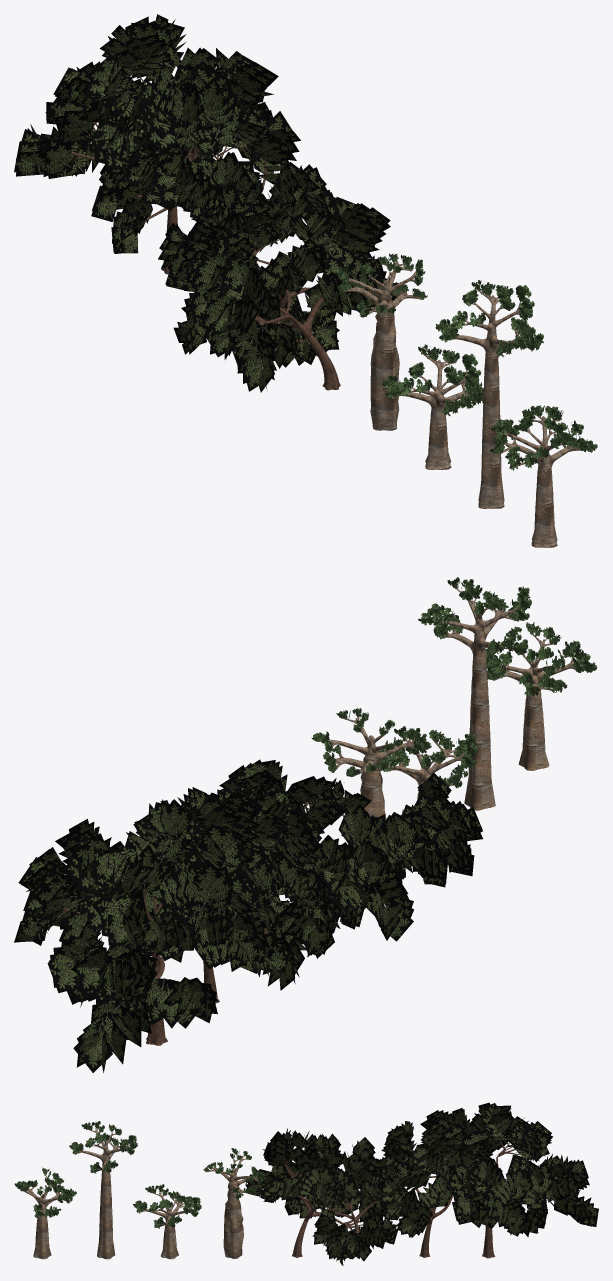
File: AfricanPlainTrees.fbx
3 views of the same model, one above another, from view 1: azimuth 30°, elevation 25°; view 2: azimuth 150°, elevation 25°; view 3: azimuth 270°, elevation 25° (orthographic). The views are drawn at different scales.
Parts seen in each view (by area): view 1: U3DMesh.004, U3DMesh.007, U3DMesh.005, U3DMesh.006, U3DMesh.001, U3DMesh.003, U3DMesh, U3DMesh.002; view 2: U3DMesh.004, U3DMesh.007, U3DMesh.005, U3DMesh.001, U3DMesh, U3DMesh.003, U3DMesh.006, U3DMesh.002; view 3: U3DMesh.004, U3DMesh.007, U3DMesh.005, U3DMesh.006, U3DMesh.001, U3DMesh.003, U3DMesh.002, U3DMesh.
Part boxes in pixels (x1,y1,x2,y2): U3DMesh.004: (14,14,300,274); U3DMesh.007: (158,197,390,392); U3DMesh.005: (91,94,334,253); U3DMesh.006: (191,169,398,368); U3DMesh.001: (435,280,543,508); U3DMesh.003: (335,253,427,430); U3DMesh: (490,405,597,547); U3DMesh.002: (382,344,483,469); U3DMesh.004: (14,787,307,1072); U3DMesh.007: (219,759,482,990); U3DMesh.005: (126,809,322,1003); U3DMesh.001: (418,577,531,810); U3DMesh: (486,622,597,770); U3DMesh.003: (311,708,431,820); U3DMesh.006: (254,785,375,933); U3DMesh.002: (379,726,478,800); U3DMesh.004: (386,1102,598,1258); U3DMesh.007: (245,1128,397,1265); U3DMesh.005: (365,1121,498,1257); U3DMesh.006: (284,1155,402,1260); U3DMesh.001: (69,1121,137,1259); U3DMesh.003: (203,1148,266,1258); U3DMesh.002: (133,1184,201,1259); U3DMesh: (14,1167,76,1259).
Size of the model in its own units: 2878 by 2604 by 9170.
